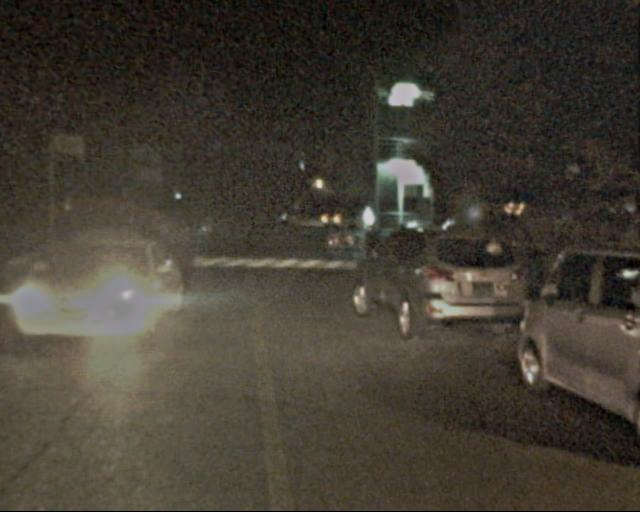person: (359, 226, 382, 283), (124, 217, 142, 262)
